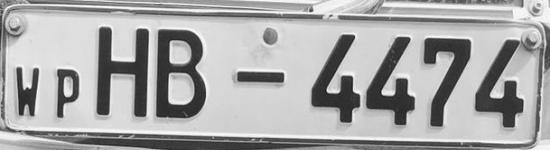-: (226, 60, 290, 93)
4: (305, 30, 364, 128), (365, 31, 418, 132), (477, 29, 526, 134)
7: (419, 29, 476, 134)
B: (151, 18, 216, 132)
H: (90, 21, 153, 126)
P: (49, 64, 86, 119)
W: (12, 64, 46, 120)
